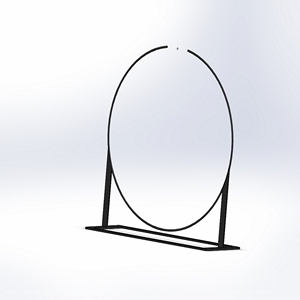circle: (83, 41, 241, 254)
